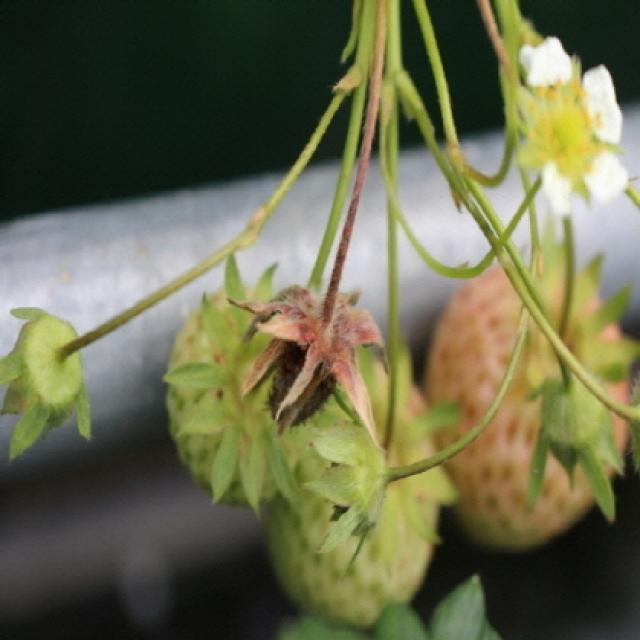Gray Mold: (226, 250, 388, 449)
